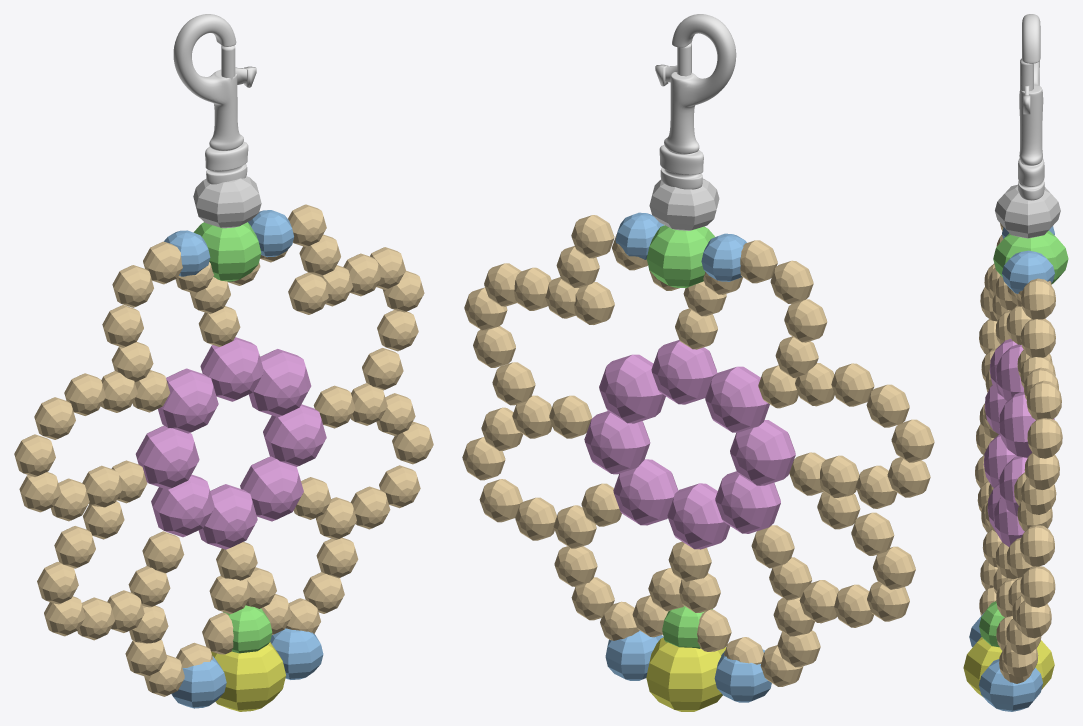
The model's file is keychain3.glb.
The picture shows the model from 3 angles, left to right: view 1: azimuth 30°, elevation 25°; view 2: azimuth 150°, elevation 25°; view 3: azimuth 270°, elevation 25°; orthographic projection. The views are drawn at different scales.
Visible parts, largest first — view 1: polySurface355_blinn12_0, polySurface598_blinn9_0, polySurface432_blinn9_0, polySurface484_blinn9_0, polySurface549_blinn9_0, polySurface492_blinn9_0, polySurface618_blinn9_0, polySurface341_blinn9_0, polySurface368_blinn9_0, polySurface357_blinn9_0, polySurface599_blinn9_0, polySurface427_blinn9_0 (+56 smaller); view 2: polySurface355_blinn12_0, polySurface598_blinn9_0, polySurface484_blinn9_0, polySurface432_blinn9_0, polySurface341_blinn9_0, polySurface357_blinn9_0, polySurface549_blinn9_0, polySurface618_blinn9_0, polySurface492_blinn9_0, polySurface599_blinn9_0, polySurface368_blinn9_0, polySurface508_blinn9_0 (+56 smaller); view 3: polySurface355_blinn12_0, polySurface427_blinn9_0, polySurface357_blinn9_0, polySurface598_blinn9_0, polySurface484_blinn9_0, polySurface348_blinn9_0, polySurface635_blinn10_0, polySurface642_blinn10_0, polySurface513_blinn10_0, polySurface438_blinn10_0, polySurface437_blinn10_0, polySurface394_blinn10_0 (+40 smaller).
Part boxes in pixels (box(x1,y1,x2,y2)): polySurface355_blinn12_0: box(173, 14, 261, 228); polySurface598_blinn9_0: box(211, 642, 285, 711); polySurface432_blinn9_0: box(135, 425, 199, 489); polySurface484_blinn9_0: box(249, 349, 311, 417); polySurface549_blinn9_0: box(200, 337, 264, 401); polySurface492_blinn9_0: box(263, 404, 326, 466); polySurface618_blinn9_0: box(240, 456, 303, 521); polySurface341_blinn9_0: box(158, 368, 218, 433); polySurface368_blinn9_0: box(151, 474, 214, 537); polySurface357_blinn9_0: box(193, 222, 261, 281); polySurface599_blinn9_0: box(198, 484, 257, 549); polySurface427_blinn9_0: box(270, 628, 323, 679); polySurface355_blinn12_0: box(649, 14, 736, 230); polySurface598_blinn9_0: box(646, 637, 726, 711); polySurface484_blinn9_0: box(599, 354, 665, 423); polySurface432_blinn9_0: box(730, 420, 795, 485); polySurface341_blinn9_0: box(705, 366, 769, 432); polySurface357_blinn9_0: box(646, 225, 714, 288); polySurface549_blinn9_0: box(651, 340, 717, 404); polySurface618_blinn9_0: box(613, 459, 678, 525); polySurface492_blinn9_0: box(584, 411, 650, 474); polySurface599_blinn9_0: box(667, 483, 730, 549); polySurface368_blinn9_0: box(715, 471, 780, 533); polySurface508_blinn9_0: box(714, 649, 771, 702); polySurface355_blinn12_0: box(995, 14, 1060, 238); polySurface427_blinn9_0: box(978, 659, 1042, 711); polySurface357_blinn9_0: box(993, 230, 1068, 284); polySurface598_blinn9_0: box(963, 637, 1054, 697); polySurface484_blinn9_0: box(999, 391, 1054, 457); polySurface348_blinn9_0: box(1002, 250, 1054, 293); polySurface635_blinn10_0: box(1020, 566, 1055, 607); polySurface642_blinn10_0: box(1020, 525, 1054, 566); polySurface513_blinn10_0: box(1020, 278, 1055, 319); polySurface438_blinn10_0: box(1027, 418, 1062, 458); polySurface437_blinn10_0: box(1020, 318, 1055, 357); polySurface394_blinn10_0: box(1026, 380, 1061, 419).
Bounding box in the file's own units: 0.0126 × 0.0191 × 0.00271.
